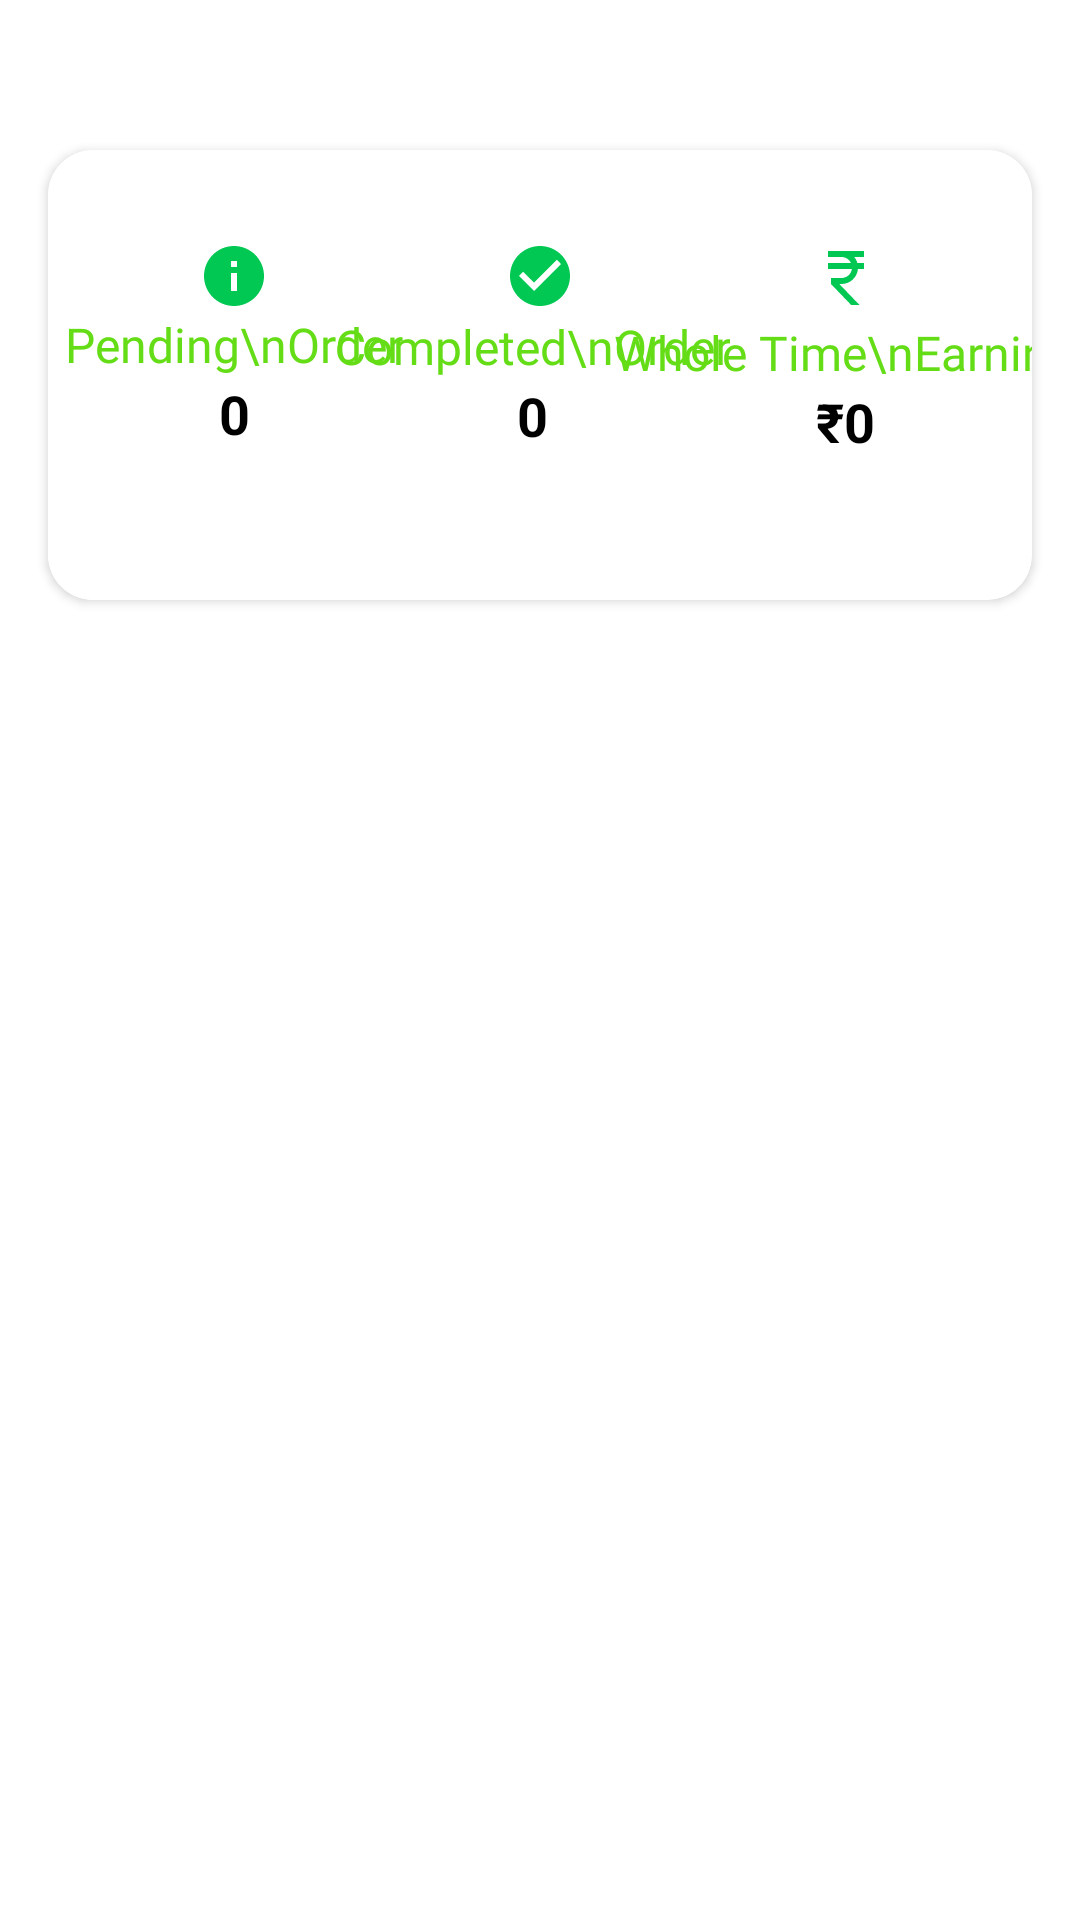

Screen size 1080*1920. Icon name, then its center in pixels as (x,y):
attention: (234,276)
order complete: (540,276)
total earning: (846,278)
